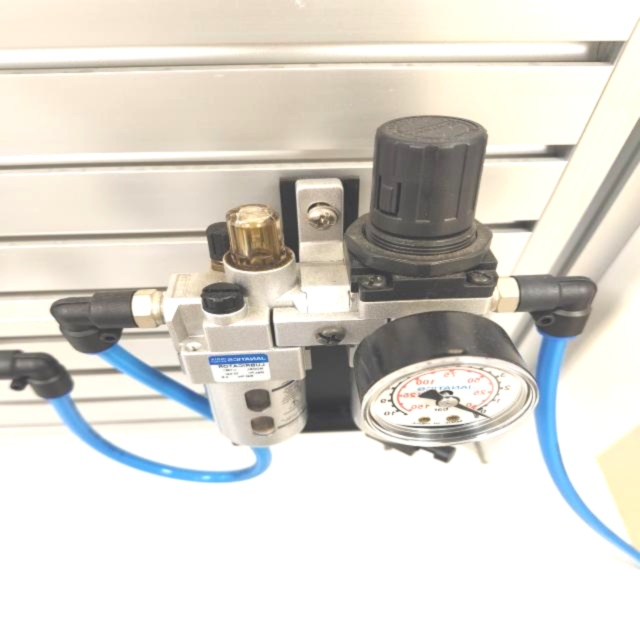FRL unit: (132, 107, 602, 488)
